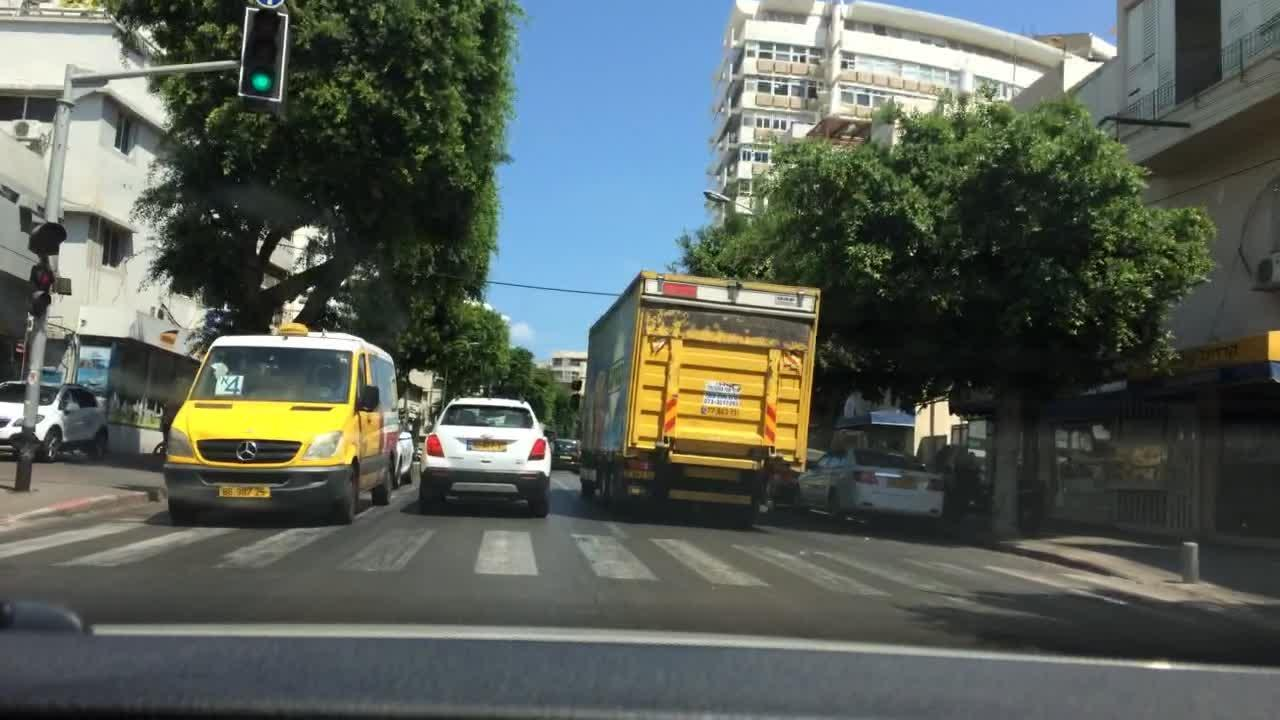Mercedes: (234, 439, 260, 464)
